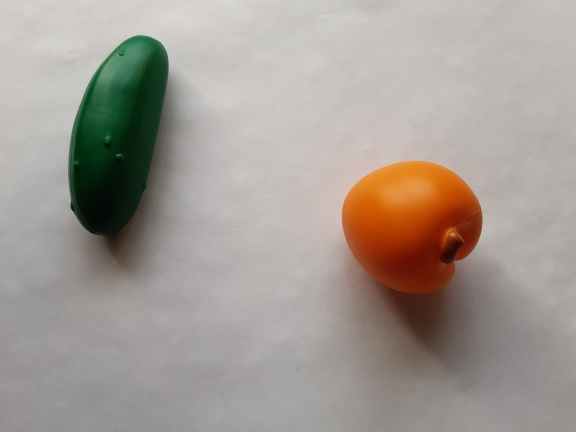apricot: (325, 155, 492, 303)
cucumber: (60, 30, 182, 246)
